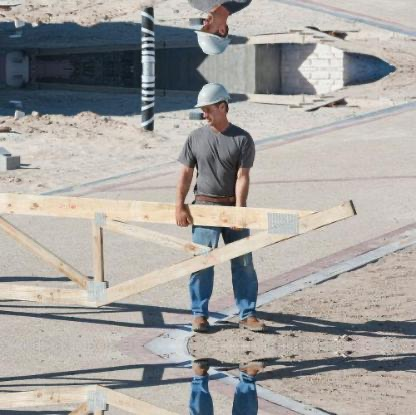Safety Helmet: (187, 79, 242, 131), (189, 4, 234, 61)
